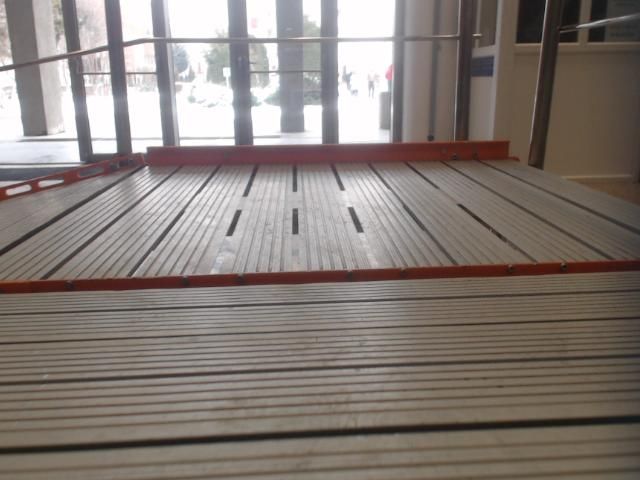ramps-railing: (125, 0, 473, 94), (528, 0, 639, 169), (105, 0, 132, 154), (0, 47, 102, 70), (455, 97, 468, 127)
